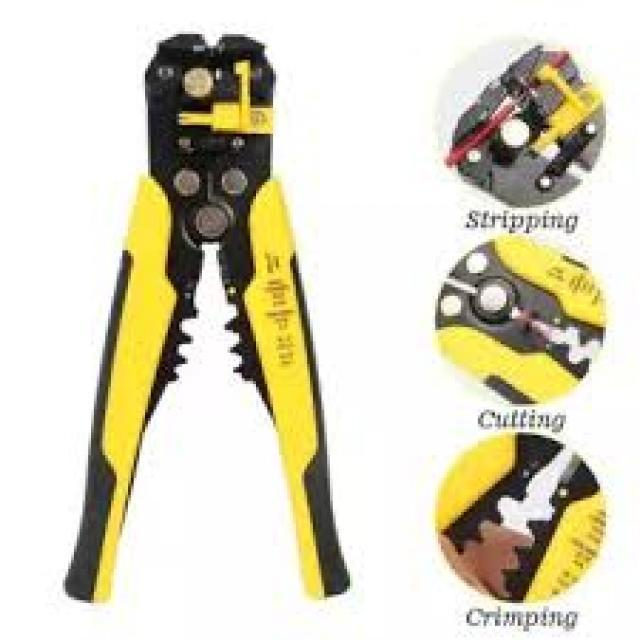pliers: (67, 24, 360, 604)
